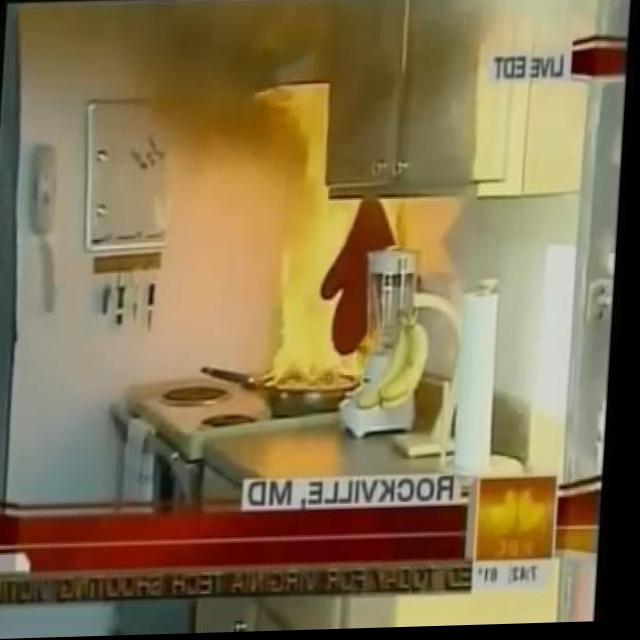fire: (254, 86, 403, 395)
